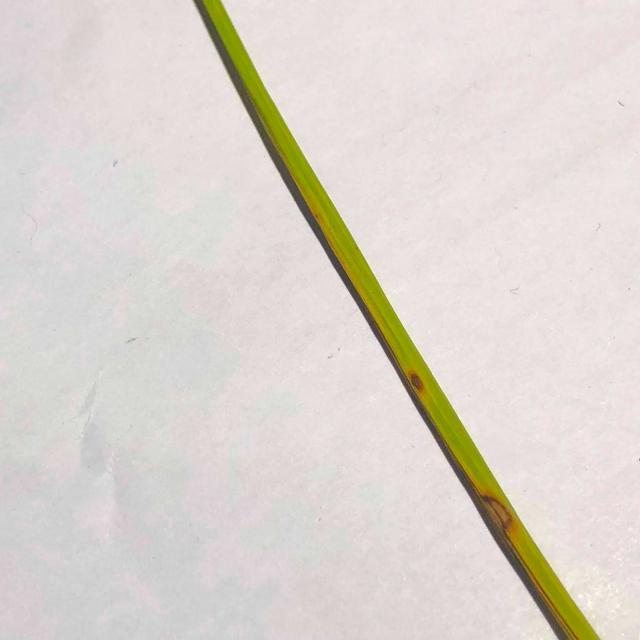Blast: (484, 495, 512, 532), (406, 368, 429, 391)
